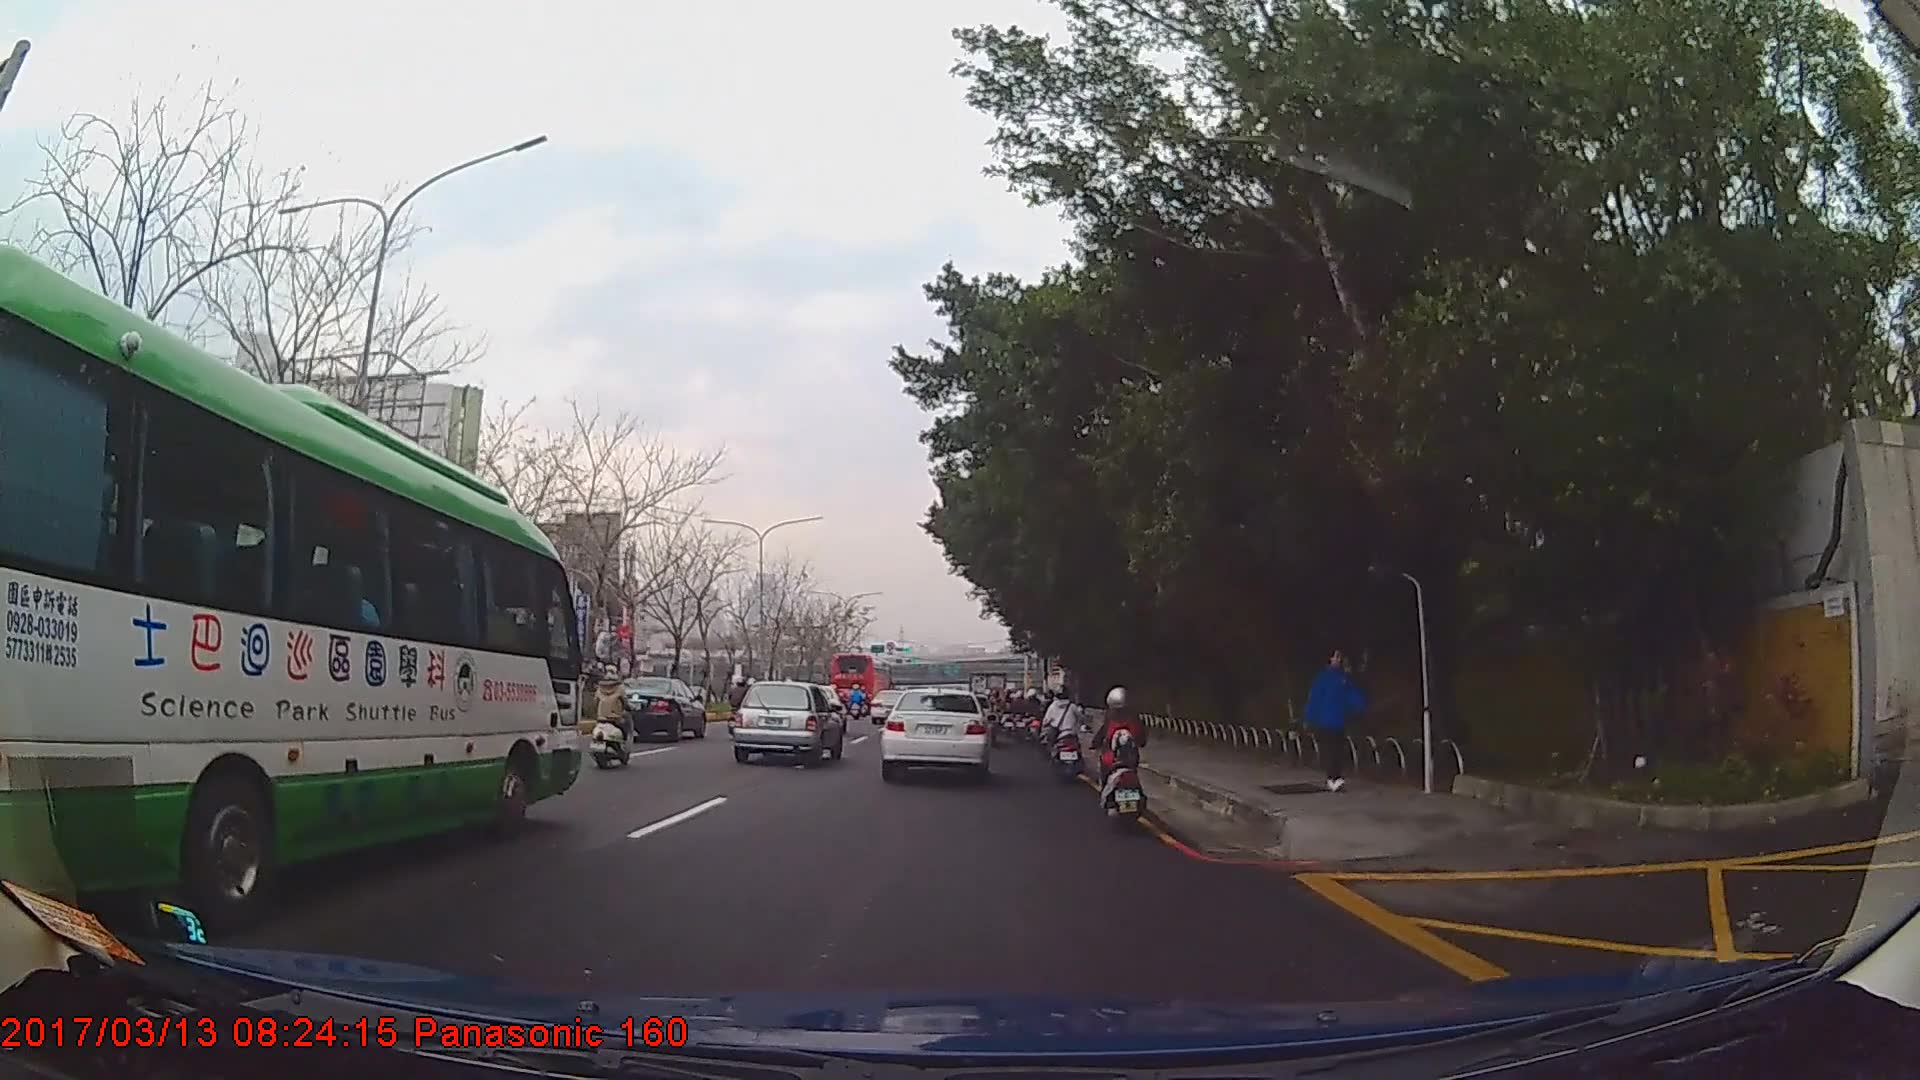pedestrian: (1306, 646, 1368, 791)
rider: (1092, 679, 1146, 826), (590, 666, 637, 769), (1041, 687, 1085, 780), (1037, 689, 1058, 753), (731, 678, 753, 730)
vehicle: (0, 250, 582, 934), (880, 687, 991, 783), (730, 678, 842, 764), (606, 675, 705, 746), (829, 650, 897, 712)
